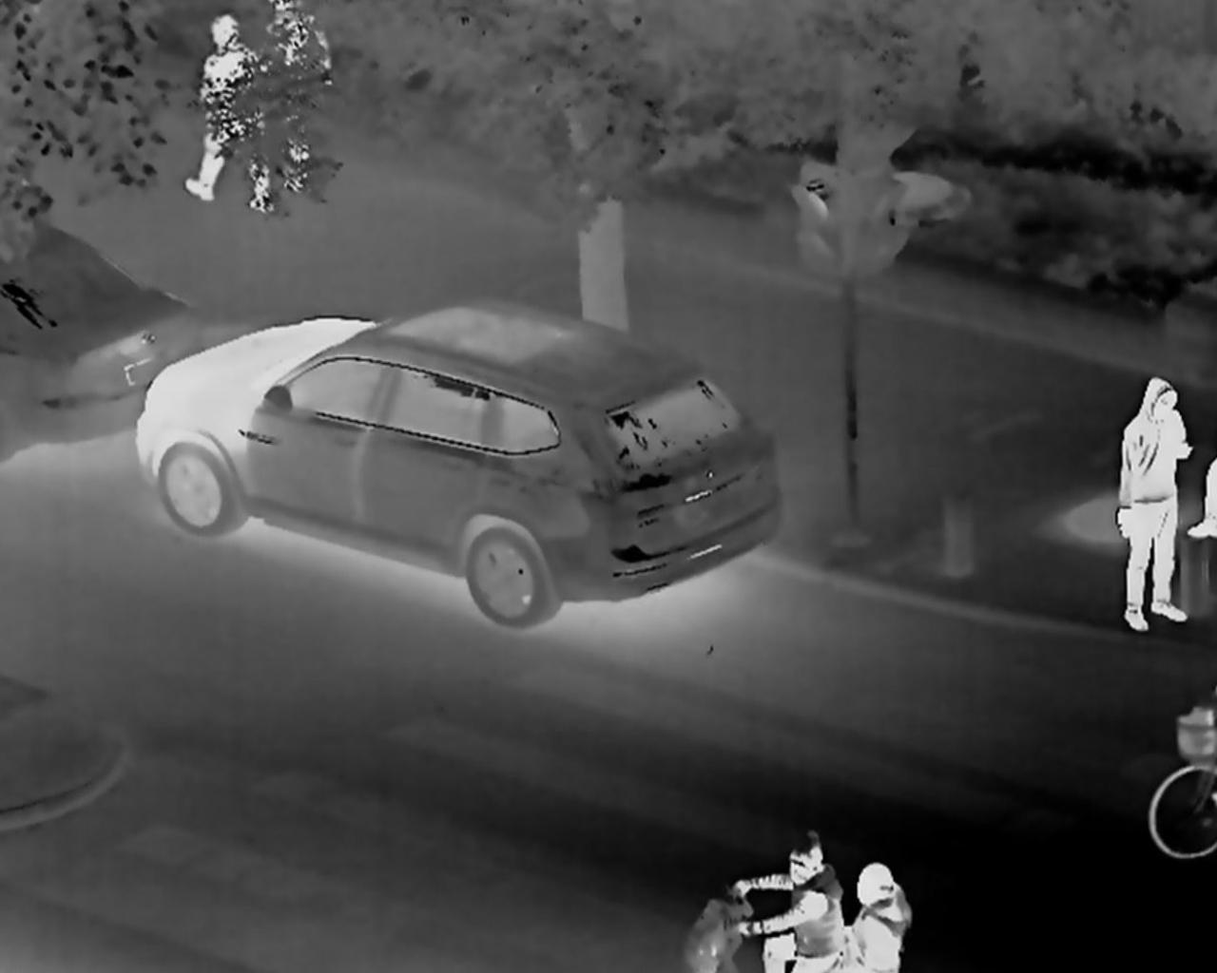person: (1114, 376, 1194, 634), (180, 10, 274, 214), (728, 827, 843, 969), (824, 858, 911, 972)
